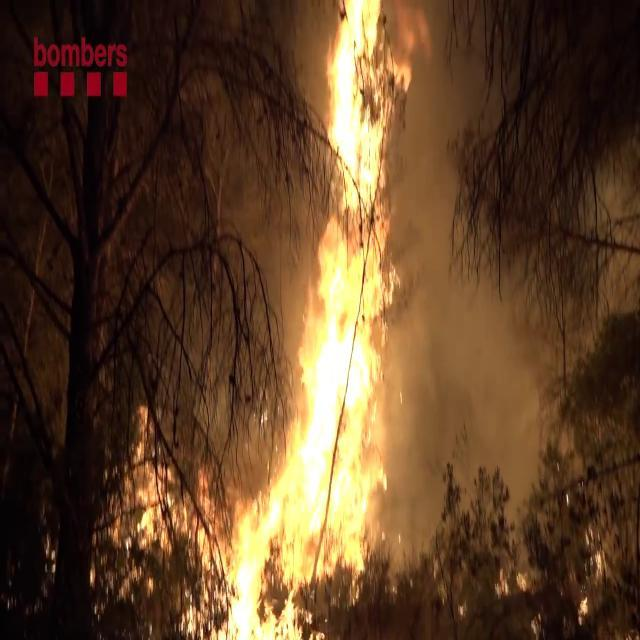Fire: (223, 0, 415, 629), (113, 394, 225, 636)
Smoke: (389, 5, 556, 556)
